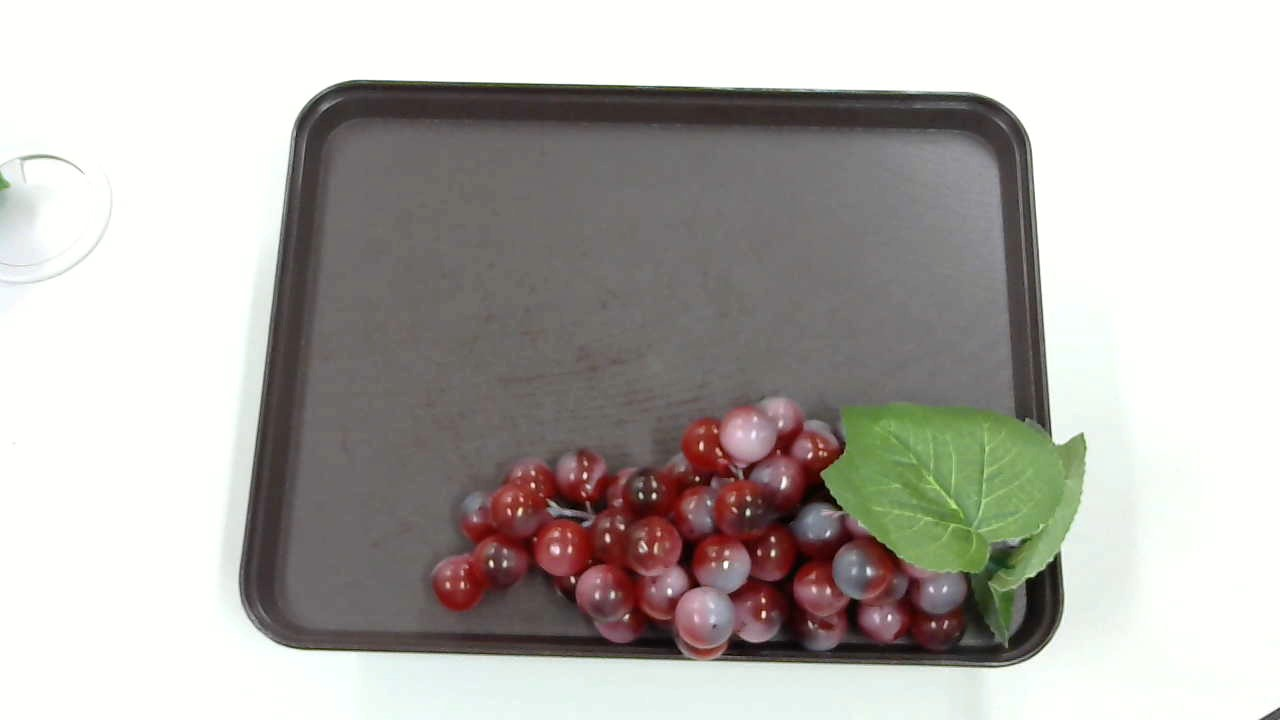grape: (429, 395, 1086, 663)
